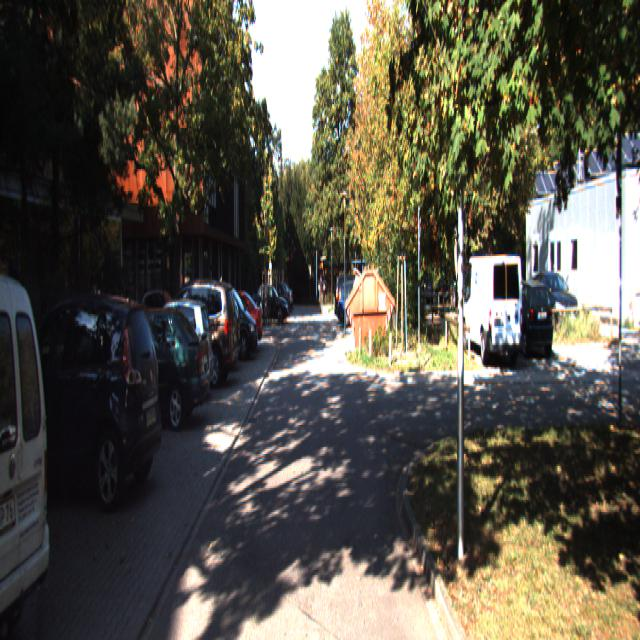Car: (0, 285, 168, 513), (0, 257, 63, 639), (94, 304, 213, 435), (145, 278, 240, 393), (131, 295, 216, 408), (460, 251, 524, 370), (198, 279, 260, 363), (499, 278, 555, 360), (337, 277, 377, 325)
